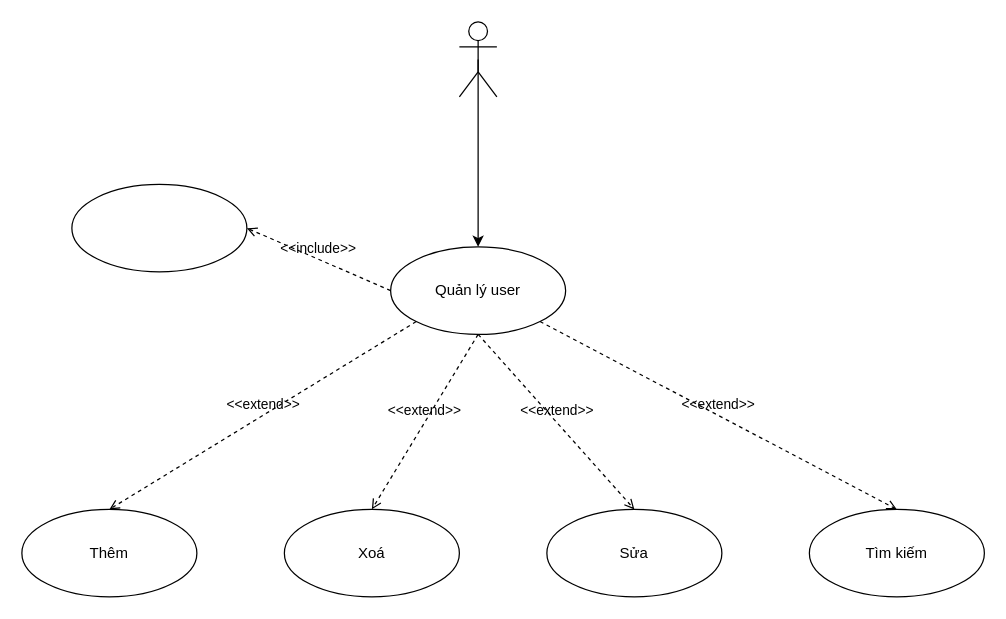
Image size: 1006x619. Some labels were removed from this diagram. Each missing label, with the centre of its shape:
Admin: the point at 477,59
Đăng nhập: the point at 159,227
